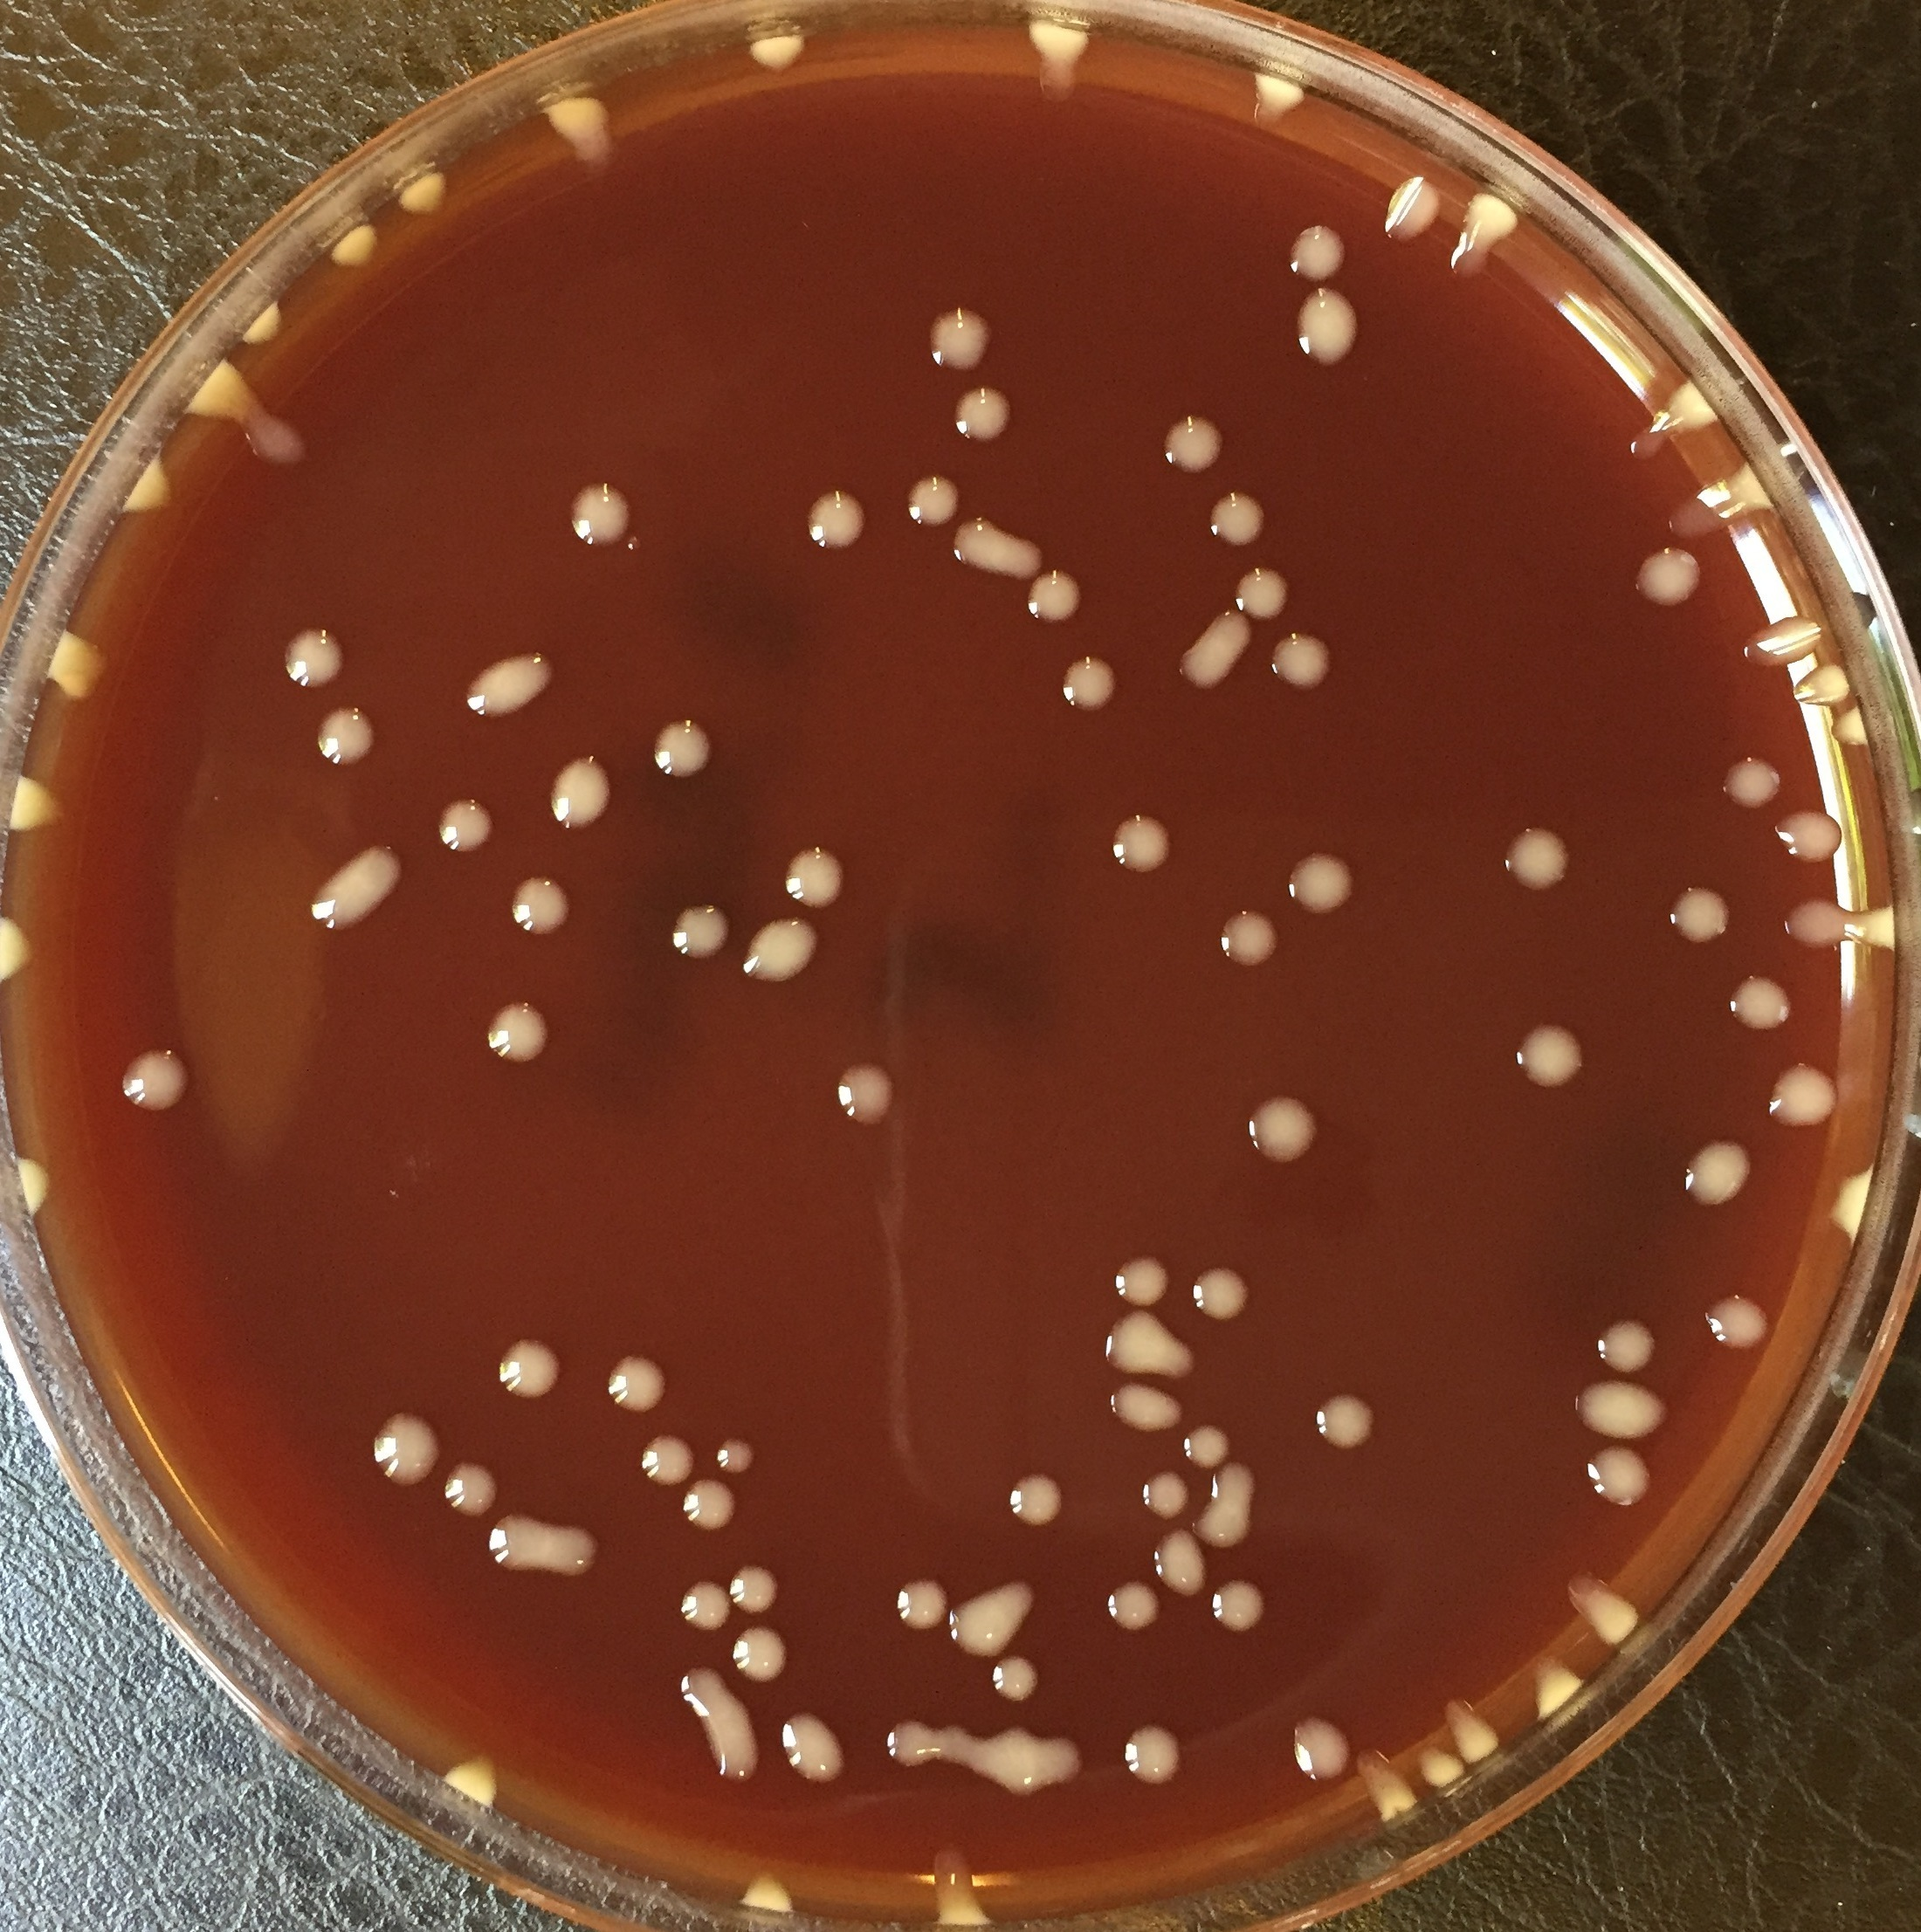sp19: (186, 361, 311, 475), (303, 839, 417, 933), (486, 1504, 610, 1587), (679, 1666, 767, 1782), (1622, 371, 1720, 461), (945, 1573, 1045, 1658), (1668, 463, 1770, 545), (1165, 609, 1258, 697), (1098, 1309, 1203, 1385), (1782, 896, 1898, 961), (950, 510, 1045, 588), (464, 646, 561, 721), (537, 93, 617, 181), (1020, 12, 1094, 104), (1448, 190, 1518, 283), (1574, 1376, 1671, 1443), (366, 1409, 445, 1487), (1244, 1093, 1321, 1170), (1564, 1568, 1638, 1649), (779, 1707, 851, 1789), (1819, 1154, 1874, 1263), (1291, 285, 1362, 370), (1353, 1744, 1423, 1826), (44, 623, 116, 702), (545, 751, 616, 832), (1766, 1054, 1840, 1130), (1632, 542, 1705, 619), (1742, 605, 1822, 674), (118, 1043, 194, 1116), (741, 913, 820, 982), (1682, 1137, 1756, 1209), (600, 1348, 672, 1422), (1509, 1021, 1587, 1089), (1501, 823, 1573, 896), (1581, 1439, 1654, 1510), (507, 869, 573, 945), (1770, 799, 1845, 866), (1437, 1686, 1497, 1770), (1103, 1376, 1186, 1436), (1200, 1462, 1260, 1545), (435, 1751, 514, 1811), (280, 626, 350, 693), (929, 1855, 996, 1925), (1034, 1735, 1092, 1816), (570, 480, 635, 553), (1240, 63, 1305, 135), (1150, 1522, 1209, 1601), (1705, 1286, 1771, 1355), (494, 1334, 563, 1401), (1112, 808, 1177, 878), (925, 304, 990, 375), (1286, 850, 1355, 915), (975, 1735, 1040, 1804), (1384, 171, 1444, 245), (830, 1065, 897, 1130), (1666, 882, 1733, 947), (1122, 1721, 1187, 1788), (482, 1001, 551, 1065), (727, 1862, 795, 1925), (1202, 486, 1272, 547), (779, 848, 844, 913), (1281, 222, 1348, 285), (1311, 1390, 1377, 1453), (804, 487, 867, 553), (950, 382, 1015, 445), (1163, 413, 1228, 477), (1729, 973, 1794, 1036), (653, 718, 712, 785), (1189, 1263, 1256, 1323), (1525, 1654, 1585, 1721), (315, 707, 376, 771), (670, 899, 734, 961), (1288, 1710, 1342, 1781), (1233, 563, 1295, 625), (1057, 653, 1119, 714), (635, 1427, 697, 1489), (1270, 632, 1333, 692), (1022, 570, 1087, 628), (11, 772, 63, 841), (1006, 1469, 1066, 1529), (723, 1561, 783, 1621), (730, 1622, 790, 1682), (438, 794, 496, 855), (1596, 1314, 1657, 1372), (1793, 655, 1856, 711), (9, 1145, 58, 1218), (1722, 753, 1782, 811), (890, 1571, 948, 1631), (1209, 1580, 1268, 1638), (906, 472, 962, 531), (1219, 910, 1281, 964), (125, 461, 183, 517), (1112, 1251, 1170, 1307), (679, 1475, 737, 1531), (1101, 1580, 1163, 1633), (880, 1712, 932, 1774), (1140, 1466, 1193, 1526), (748, 28, 811, 77), (927, 1700, 962, 1784), (394, 171, 452, 222), (440, 1464, 501, 1511), (992, 1652, 1045, 1707), (1411, 1737, 1465, 1789), (681, 1577, 730, 1633), (1175, 1425, 1230, 1473), (709, 1431, 762, 1476), (331, 223, 380, 271), (1828, 700, 1870, 753), (241, 310, 294, 350)
